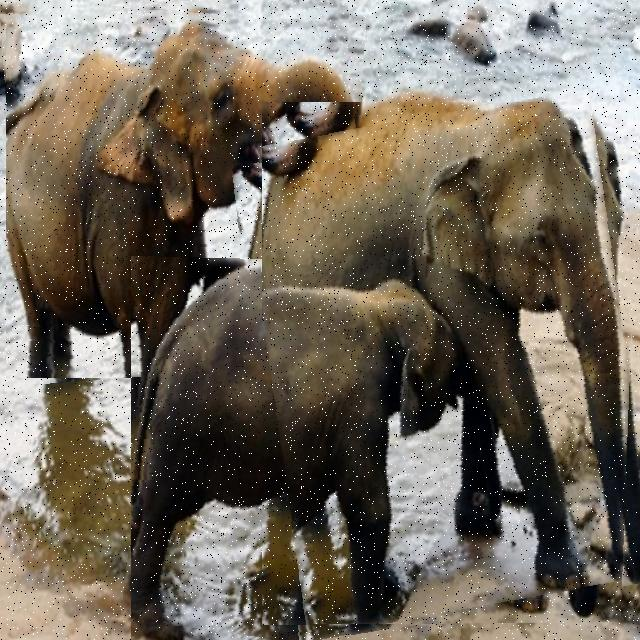elephant: (262, 102, 640, 625), (131, 256, 488, 640), (6, 0, 366, 378)
